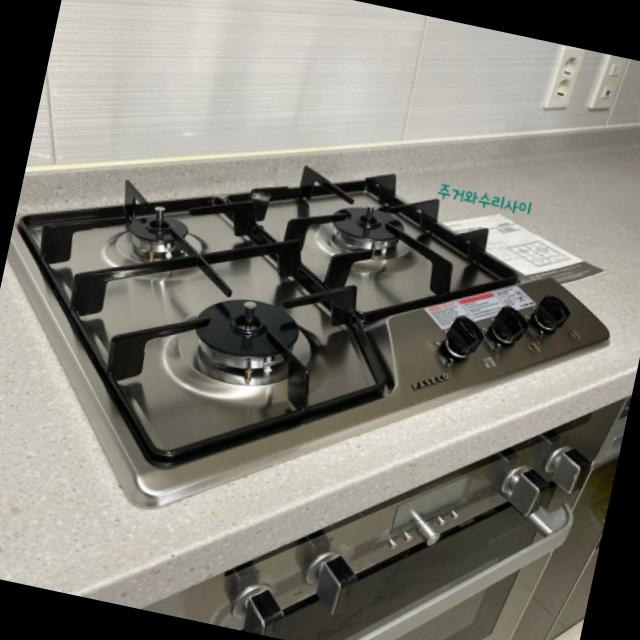knob_OFF: (260, 166, 465, 302), (133, 295, 354, 421), (82, 153, 263, 293)
